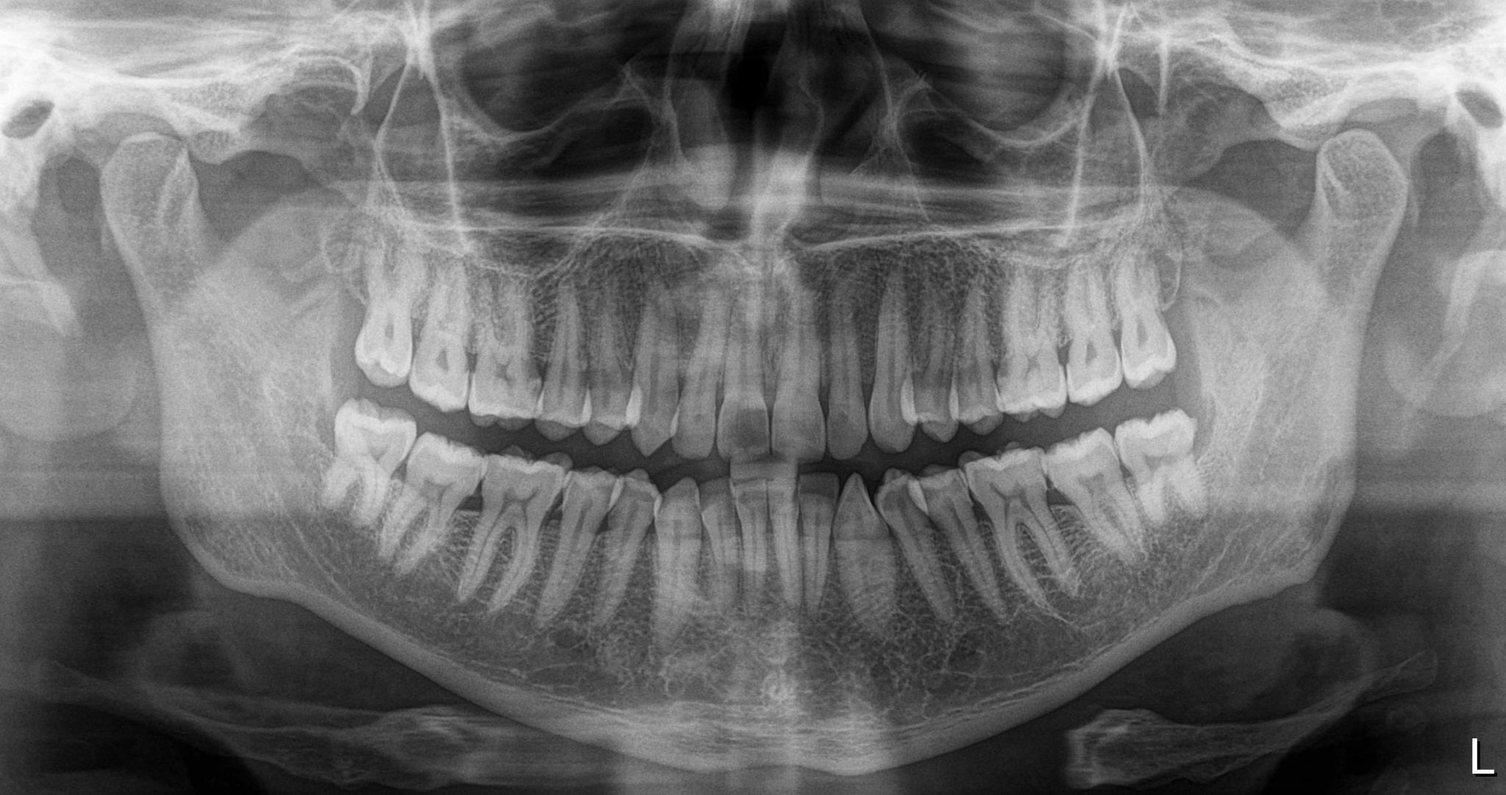Dental Caries: (958, 320, 1043, 392), (882, 480, 939, 540)
